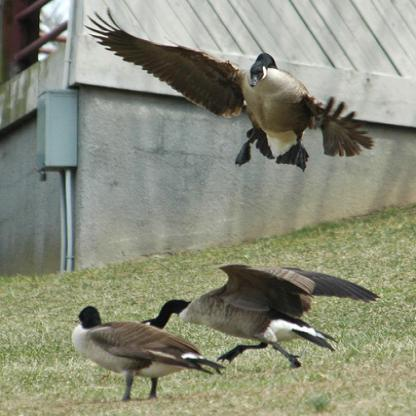bird: (81, 7, 377, 171), (139, 259, 379, 367), (68, 305, 225, 402)
